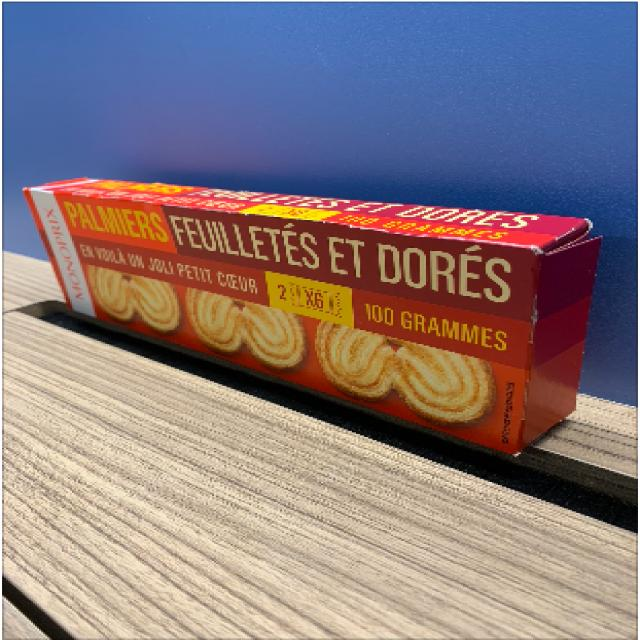object_name: (29, 182, 578, 430)
